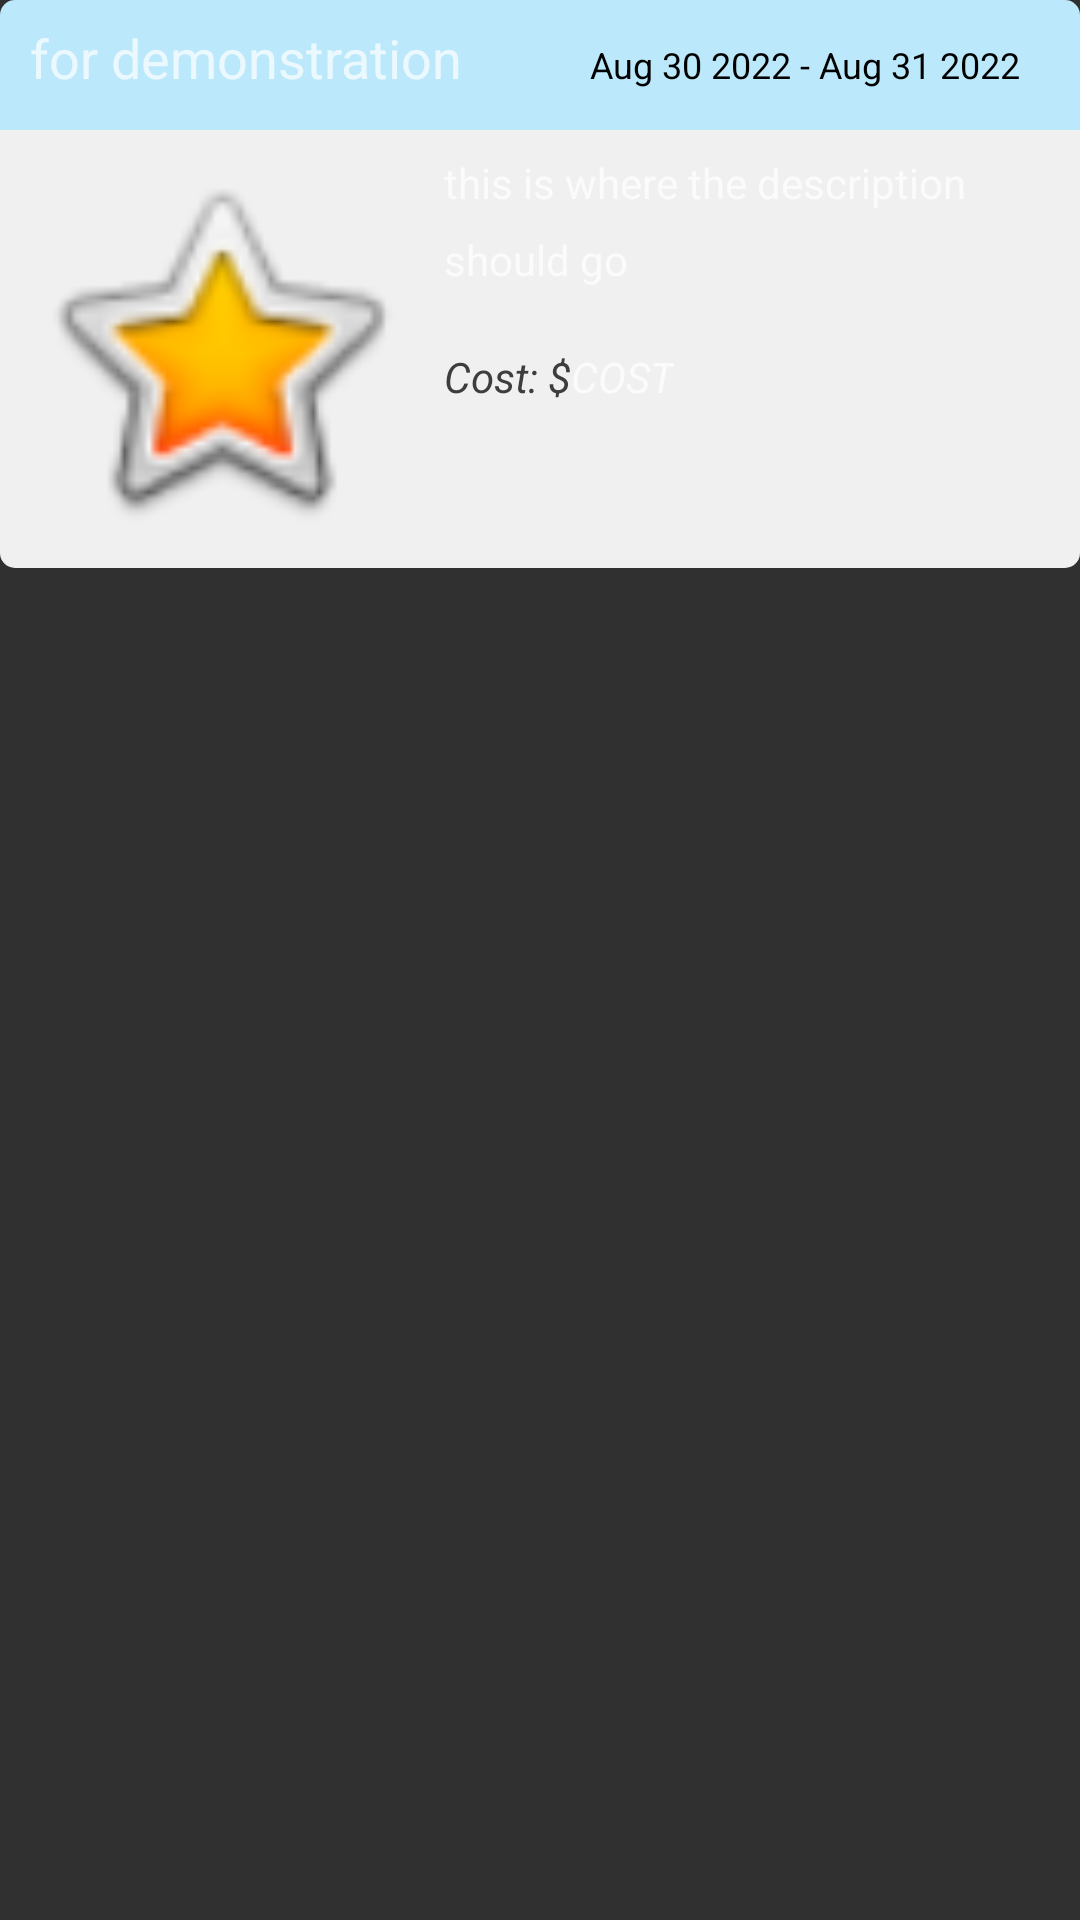

Where icons sit on this 1080w x 1920h app screen, as rect(x1, y1, x2, y2):
star on: rect(59, 194, 385, 510)
